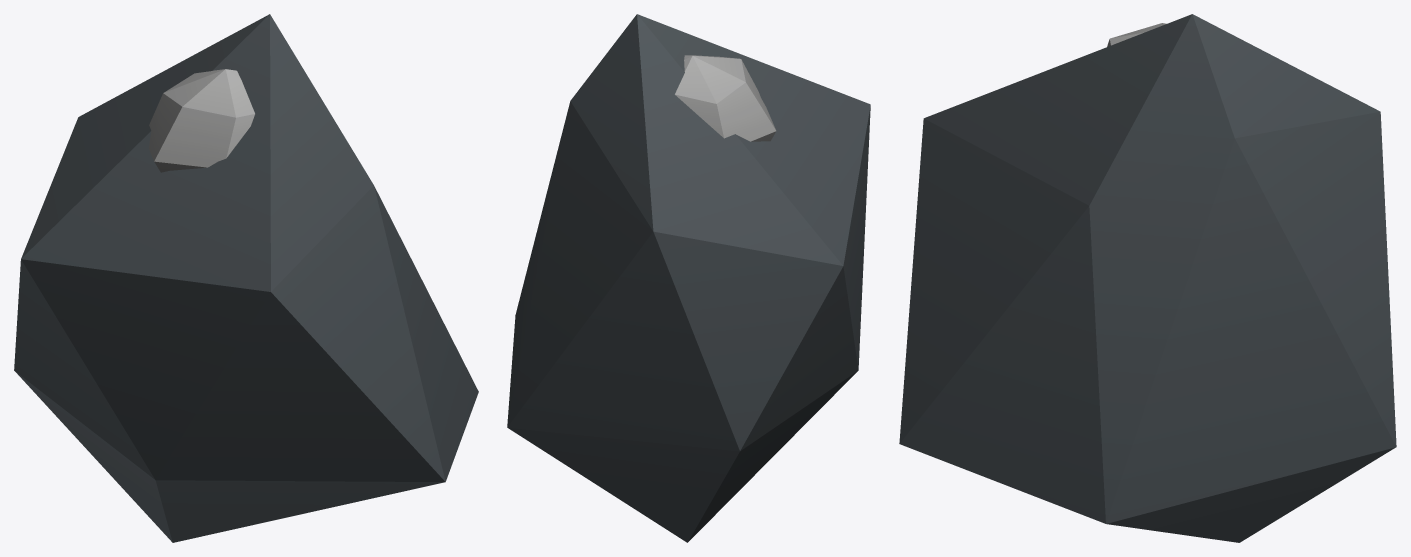
Rendered from ash_boulder_b.glb.
3 renders of one model, left to right at view 1: azimuth 30°, elevation 25°; view 2: azimuth 150°, elevation 25°; view 3: azimuth 270°, elevation 25°, orthographic. The views are drawn at different scales.
Visible parts, largest first — view 1: ash_boulder_b; view 2: ash_boulder_b; view 3: ash_boulder_b.
Boxes of the visible parts, bbox=[...] form: ash_boulder_b: bbox=[14, 14, 478, 542]; ash_boulder_b: bbox=[507, 14, 870, 542]; ash_boulder_b: bbox=[899, 14, 1396, 542].
Size of the model in its own units: 1.36 by 1.7 by 1.35.
Materials: 1 (1 with a texture image).
